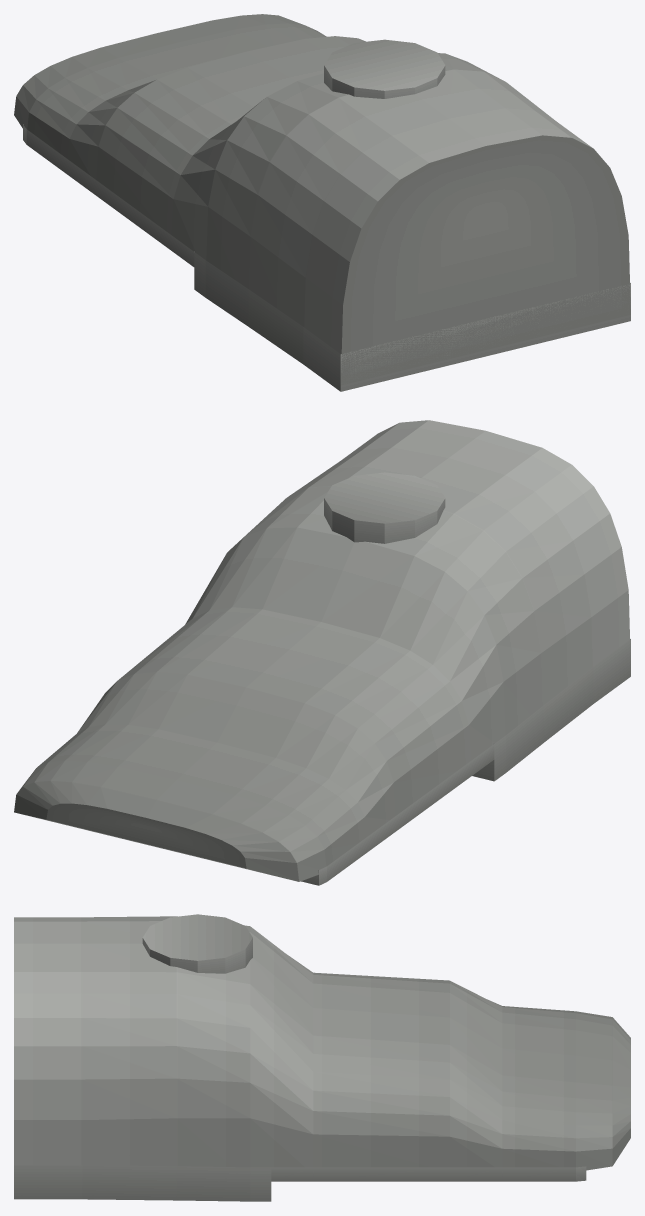
File: streetlight_ltgcmv2np.obj
3 renders of one model, top to bottom at view 1: azimuth 30°, elevation 25°; view 2: azimuth 150°, elevation 25°; view 3: azimuth 270°, elevation 25°, orthographic. The views are drawn at different scales.
Parts seen in each view (by area): view 1: fixture; view 2: fixture; view 3: fixture.
Part boxes in pixels (x1,y1,x2,y2): fixture: (14, 14, 630, 391); fixture: (14, 420, 630, 885); fixture: (14, 914, 630, 1201).
Bounding box in the file's own units: 0.375 × 0.2593 × 0.7344.
